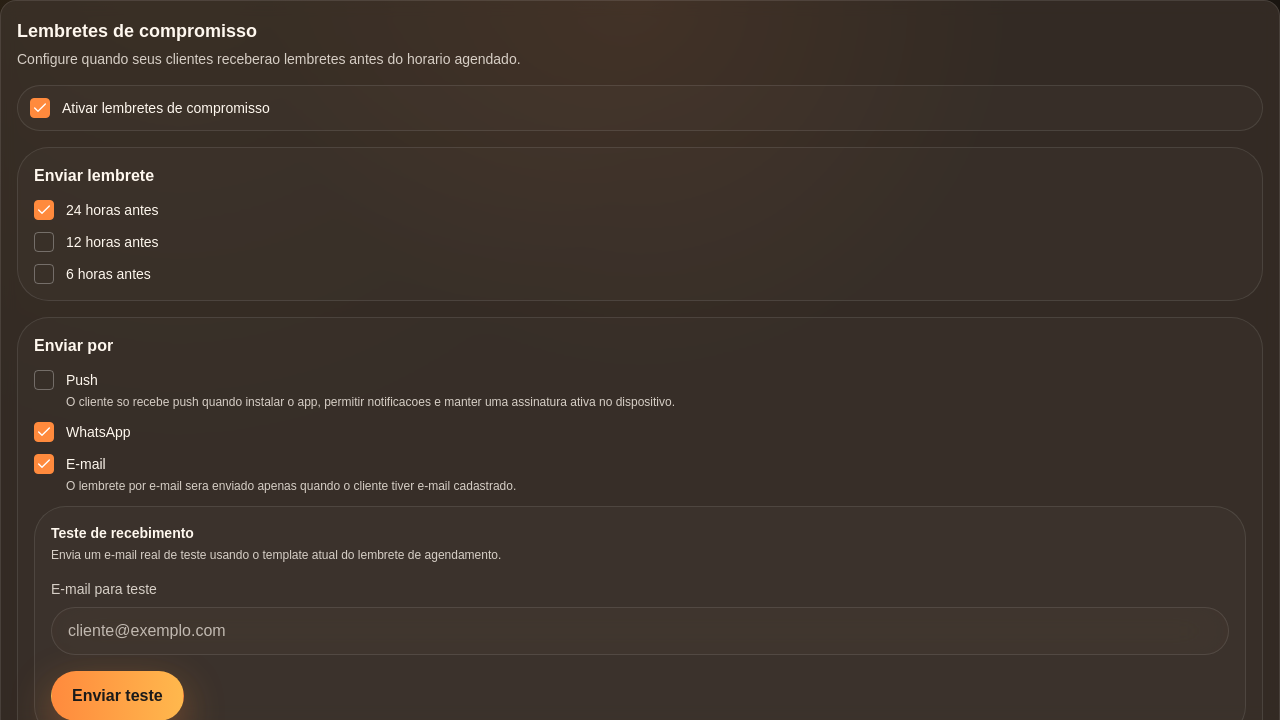
Scenario: BookingReminderConfig › sends a test email when email channel is active
The width and height of the screenshot is (1280, 720).
Check: the heading "Lembretes de compromisso" is shown, box [17,21,257,41]
Check: the button "Enviar teste" is enabled, box [51,671,184,719]
In the field labelled "E-mail para teste": (640, 631) [51,607,1229,655], type "teste@agendoro.com"
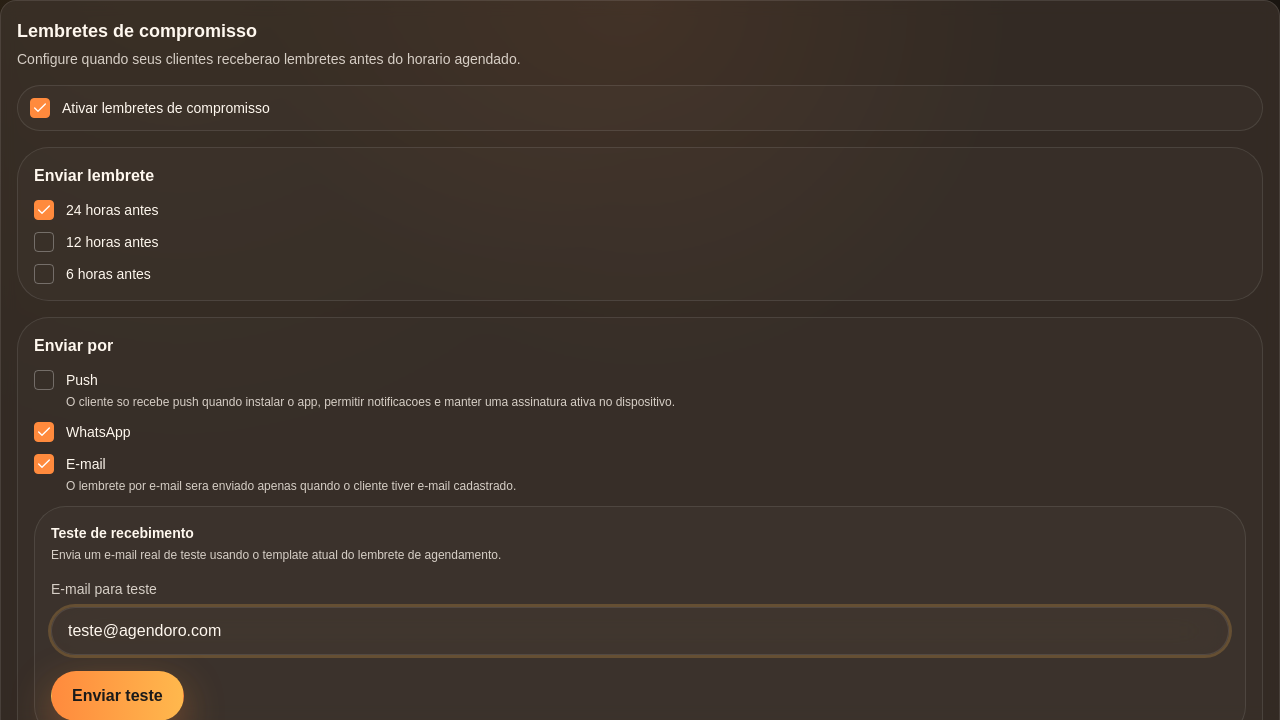
Click the button "Enviar teste": (117, 696) [51,671,184,719]
(page scrolled)
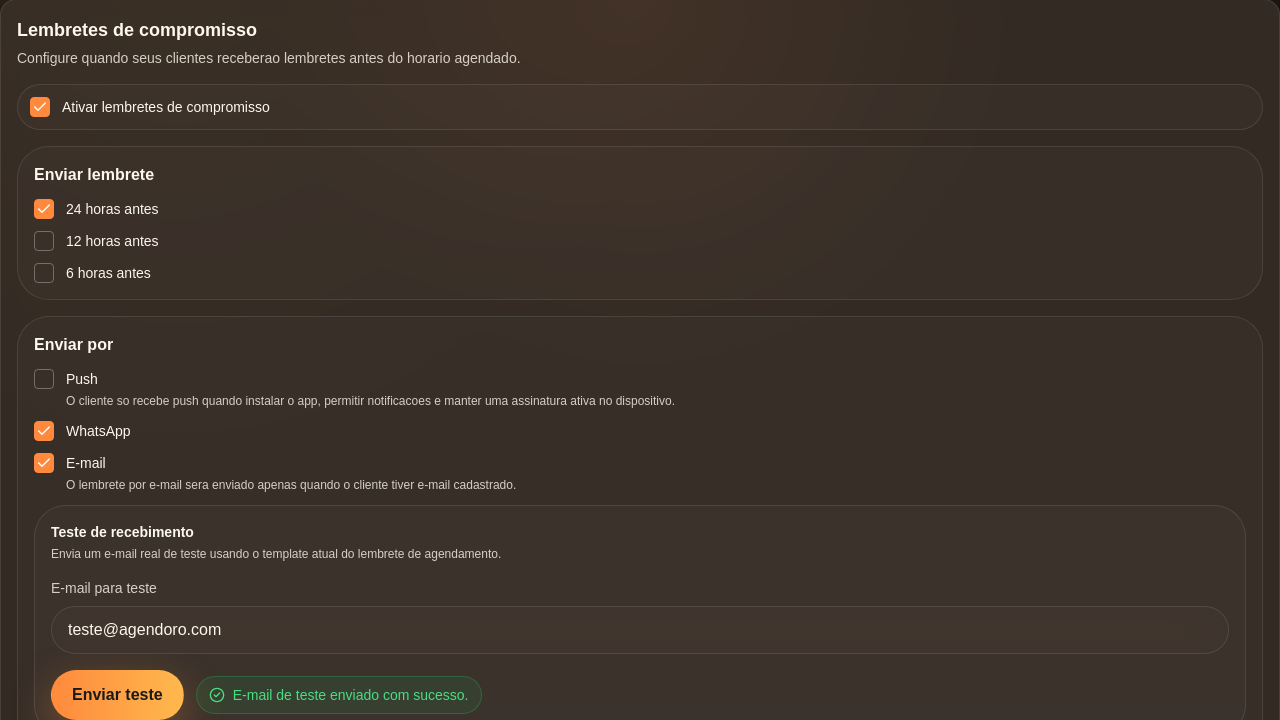
Check: the text "E-mail de teste enviado com sucesso." is shown, box [196,676,482,714]
